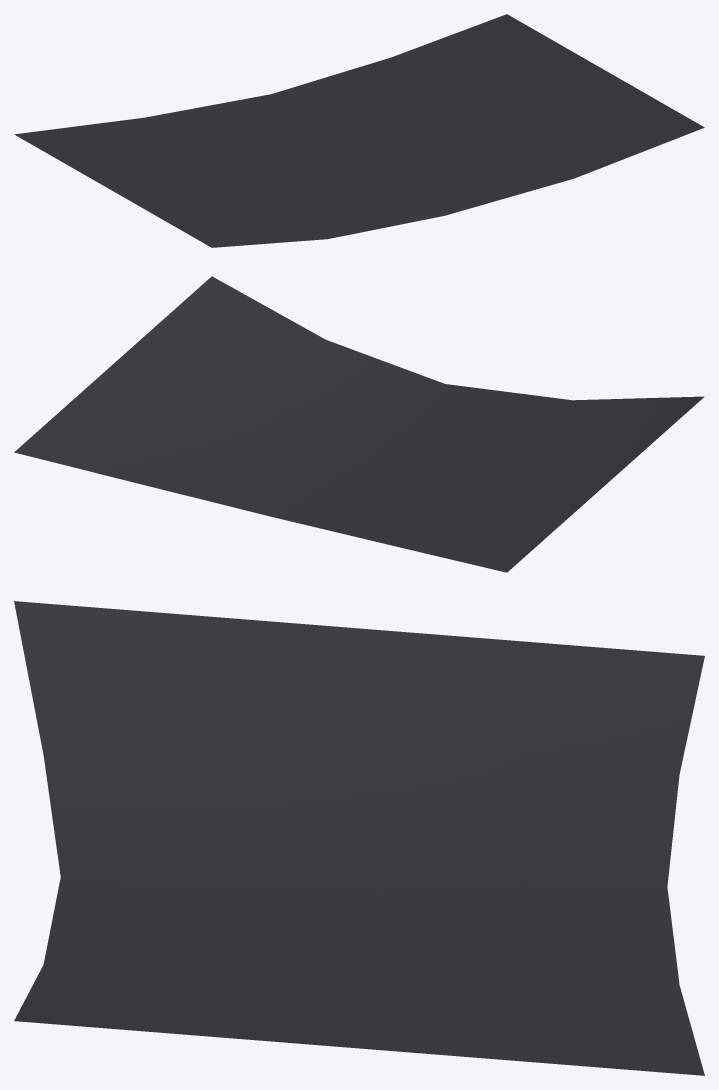
Rendered from SM_Bld_Window_Net_01.glb.
3 renders of one model, top to bottom at view 1: azimuth 30°, elevation 25°; view 2: azimuth 150°, elevation 25°; view 3: azimuth 270°, elevation 25°, orthographic. The views are drawn at different scales.
Visible parts, largest first — view 1: SM_Bld_Window_Net_01; view 2: SM_Bld_Window_Net_01; view 3: SM_Bld_Window_Net_01.
Boxes of the visible parts, x1,y1,x2,y2 form: SM_Bld_Window_Net_01: (14, 14, 704, 247); SM_Bld_Window_Net_01: (14, 276, 704, 572); SM_Bld_Window_Net_01: (14, 601, 704, 1075).
Bounding box in the file's own units: 4.98 × 0.4187 × 3.46.
Materials: 1 (1 with a texture image).
